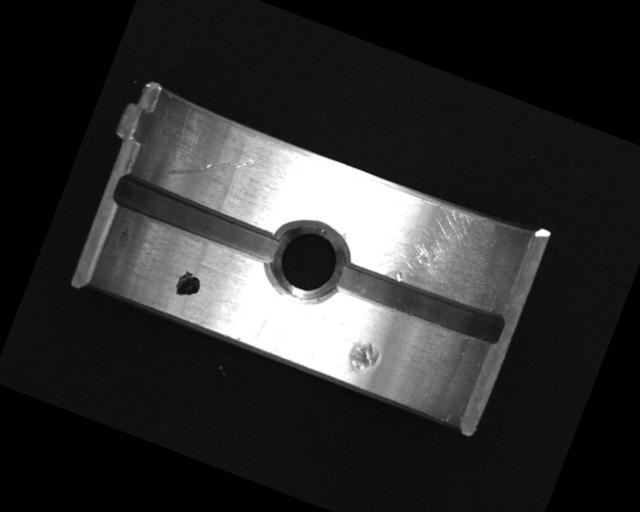blot: (172, 268, 205, 302)
bruise: (342, 336, 383, 381)
gap: (329, 253, 509, 350), (109, 173, 281, 265)
hole: (256, 209, 357, 314)
nick: (165, 130, 257, 202)
scratch: (343, 175, 524, 317)
